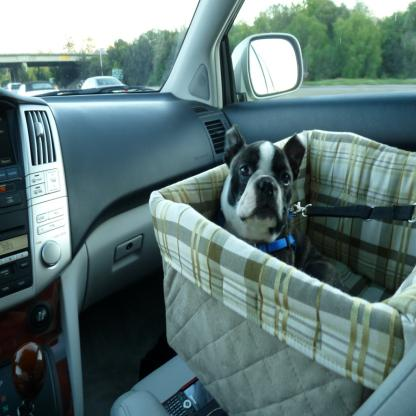Car: (1, 1, 416, 416), (81, 76, 131, 96)
